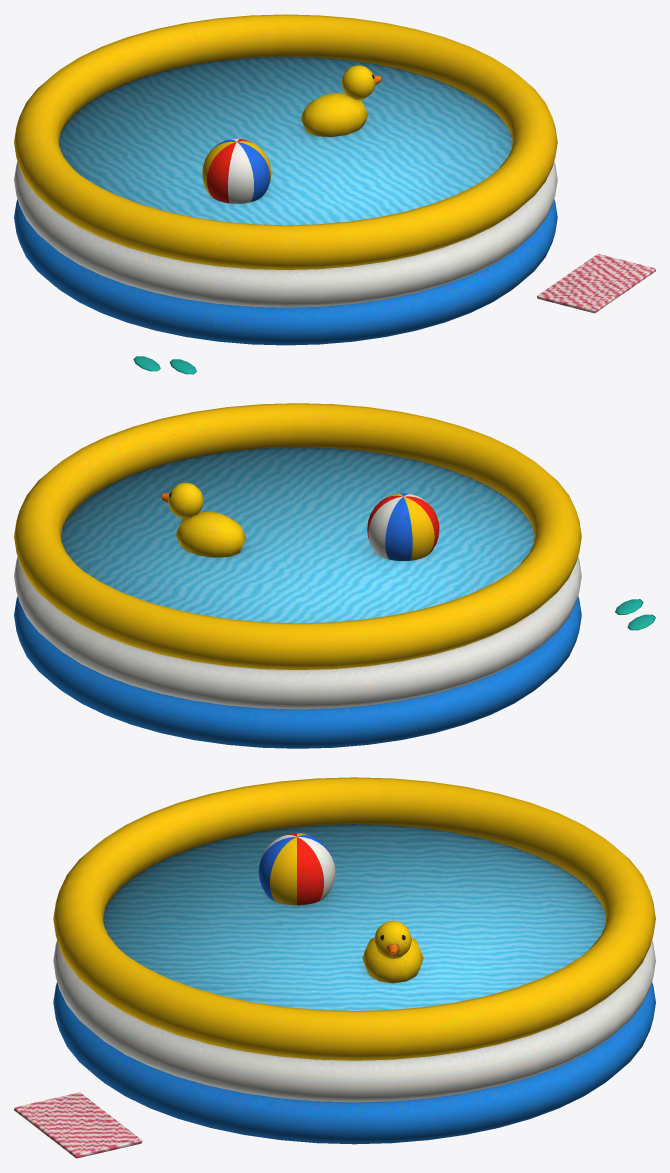
File: paddling_pool.glb
3 views of the same model, one above another, from view 1: azimuth 30°, elevation 25°; view 2: azimuth 150°, elevation 25°; view 3: azimuth 270°, elevation 25° (orthographic). The views are drawn at different scales.
Visible parts, largest first — view 1: paddling_pool; view 2: paddling_pool; view 3: paddling_pool.
Boxes of the visible parts, <box> form: paddling_pool: <box>14,14,655,374</box>; paddling_pool: <box>14,403,655,748</box>; paddling_pool: <box>14,777,655,1158</box>.
Bounding box in the file's own units: 1.62 × 0.44 × 1.67.
Materials: 1 (1 with a texture image).
